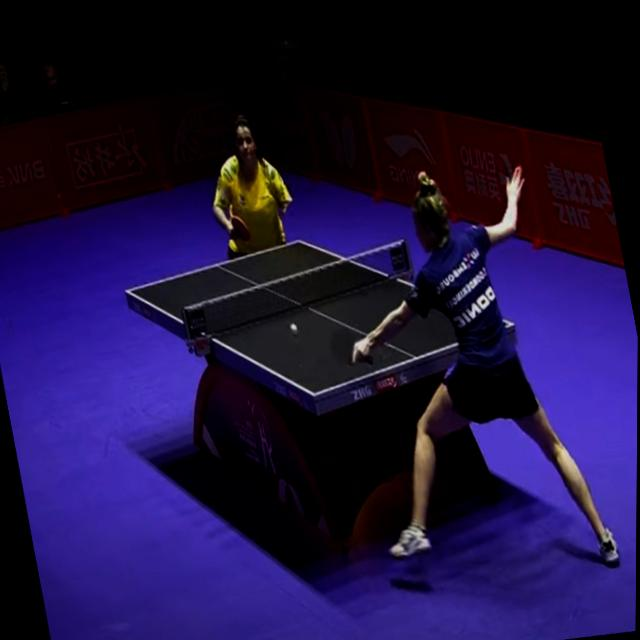TT Net: (179, 236, 416, 349)
TT Racket: (328, 327, 359, 369), (230, 211, 253, 244)
TT Table: (126, 236, 515, 397)
